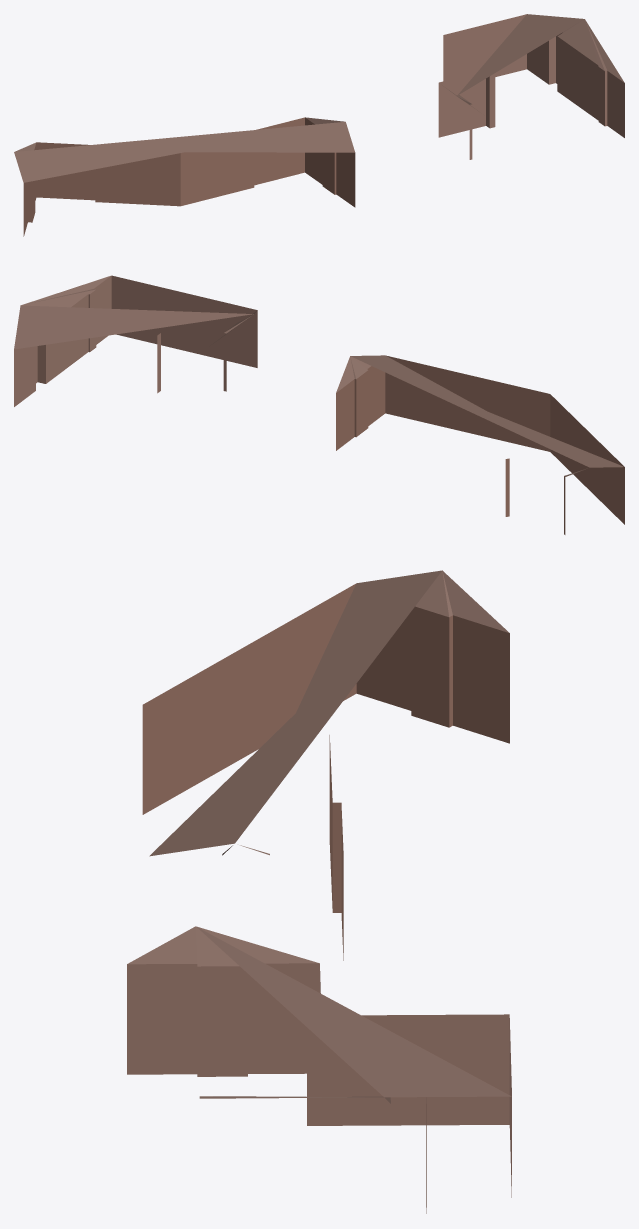
Rendered from c_1632_17832_buildings_residential.glb.
3 renders of one model, top to bottom at view 1: azimuth 30°, elevation 25°; view 2: azimuth 150°, elevation 25°; view 3: azimuth 270°, elevation 25°, orthographic. The views are drawn at different scales.
Parts seen in each view (by area): view 1: geometry_0; view 2: geometry_0; view 3: geometry_0.
Part boxes in pixels (x1,y1,x2,y2): geometry_0: (14,14,624,236); geometry_0: (14,275,624,534); geometry_0: (127,570,511,1213).
Size of the model in its own units: 170 by 21.59 by 49.96.
